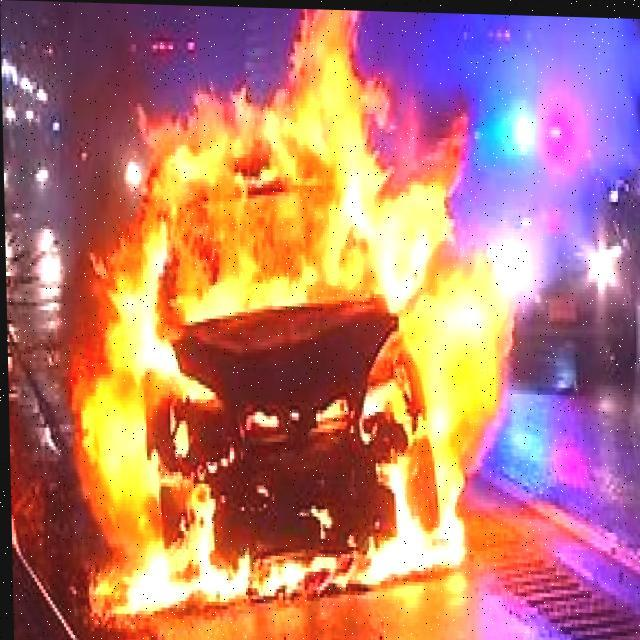single accident: (87, 15, 557, 640)
